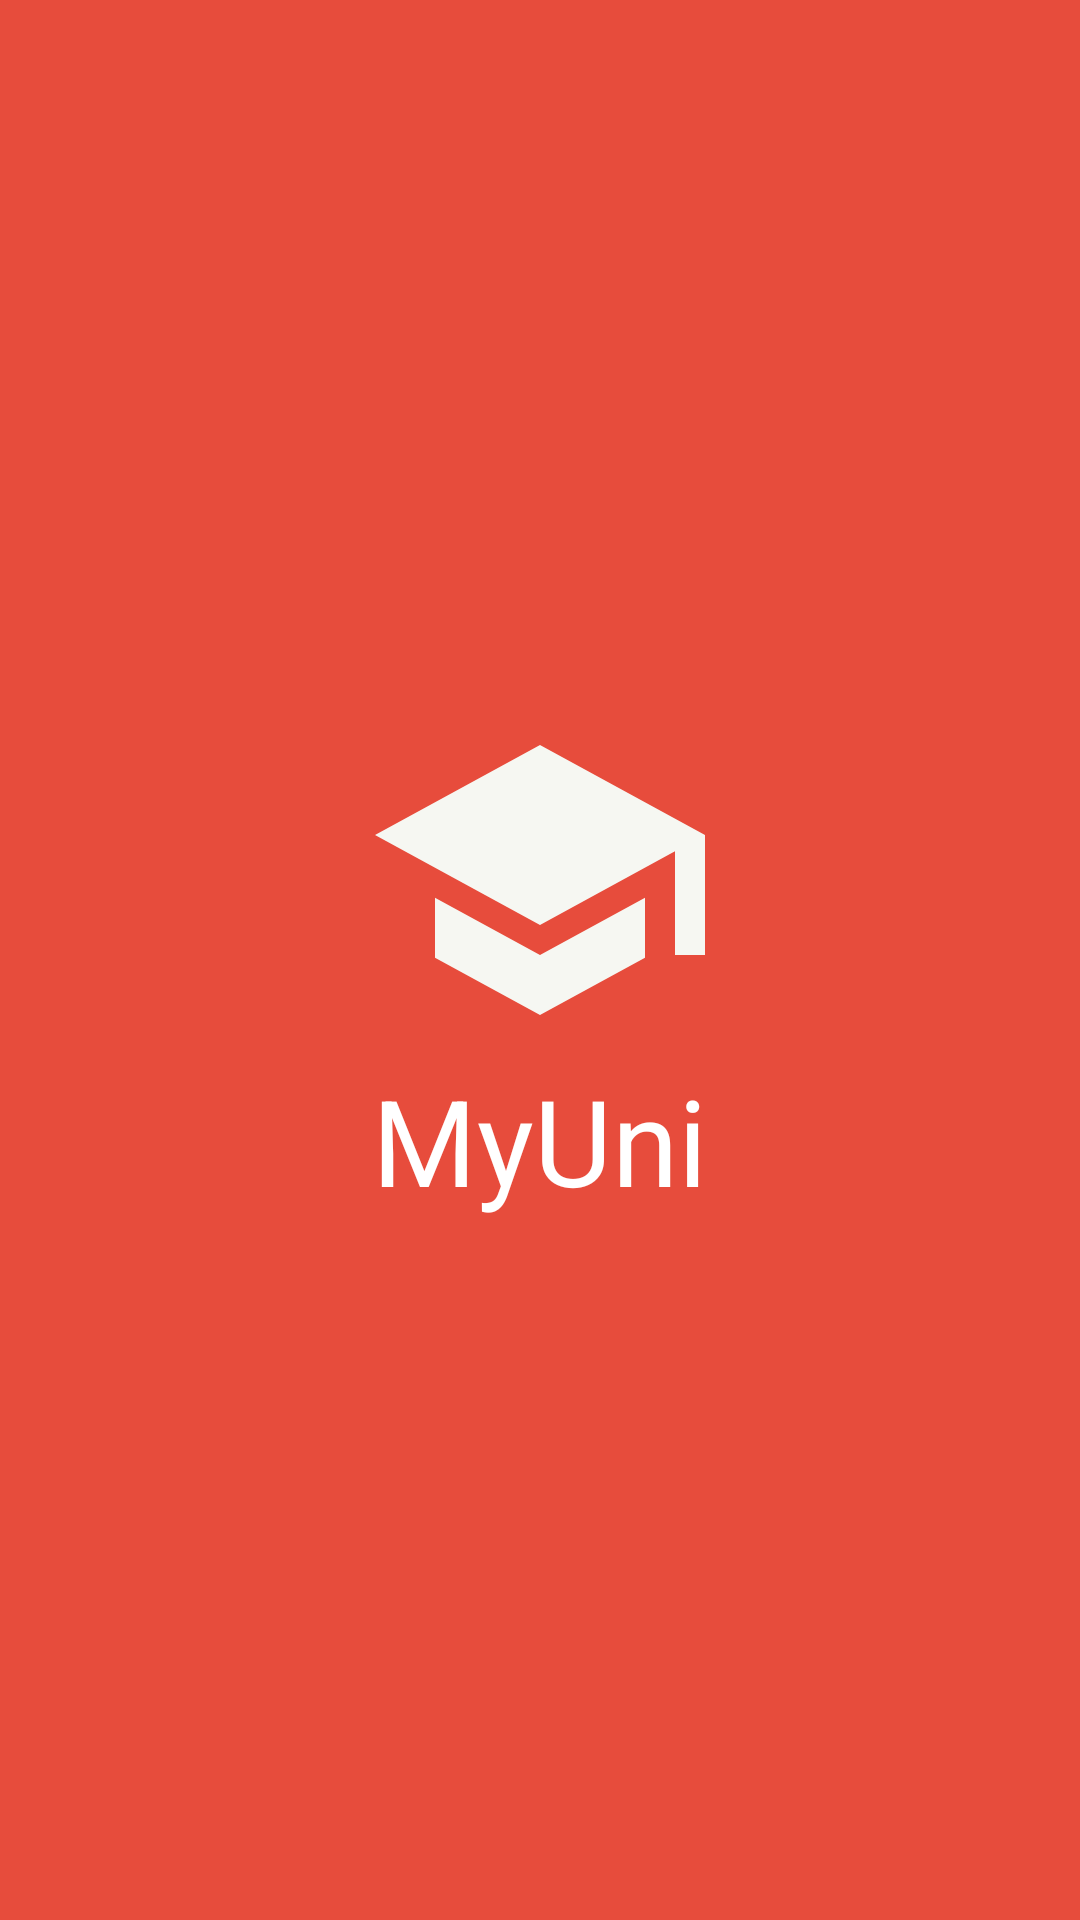

Icons on this 1080px×1920px Android screen, each with its box as (x1=x1, y1=y1, x2=x2, y2=y2):
school: (x1=375, y1=745, x2=705, y2=1015)
